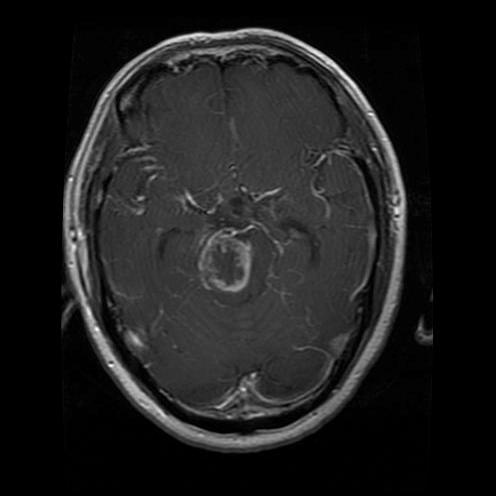Tumour-Glioma: (192, 224, 269, 295)
